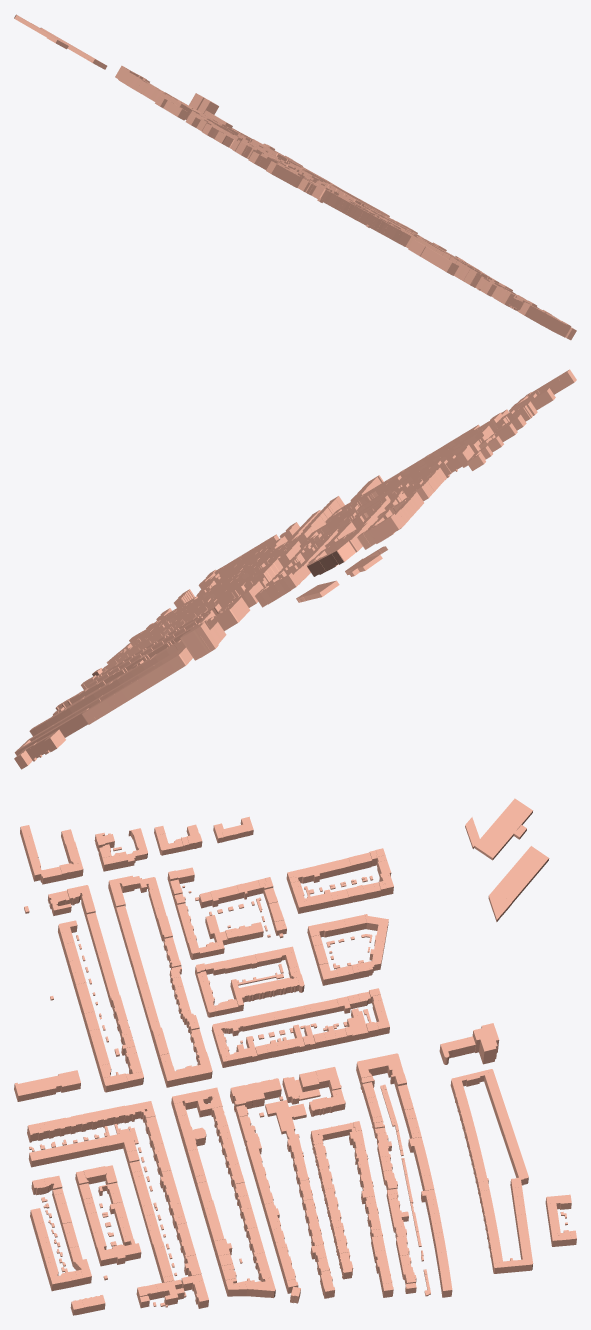
3 views of the same model, one above another, from view 1: azimuth 30°, elevation 25°; view 2: azimuth 150°, elevation 25°; view 3: azimuth 270°, elevation 25° (orthographic). The views are drawn at different scales.
Bounding box in the file's own units: 551 × 388 × 631.
